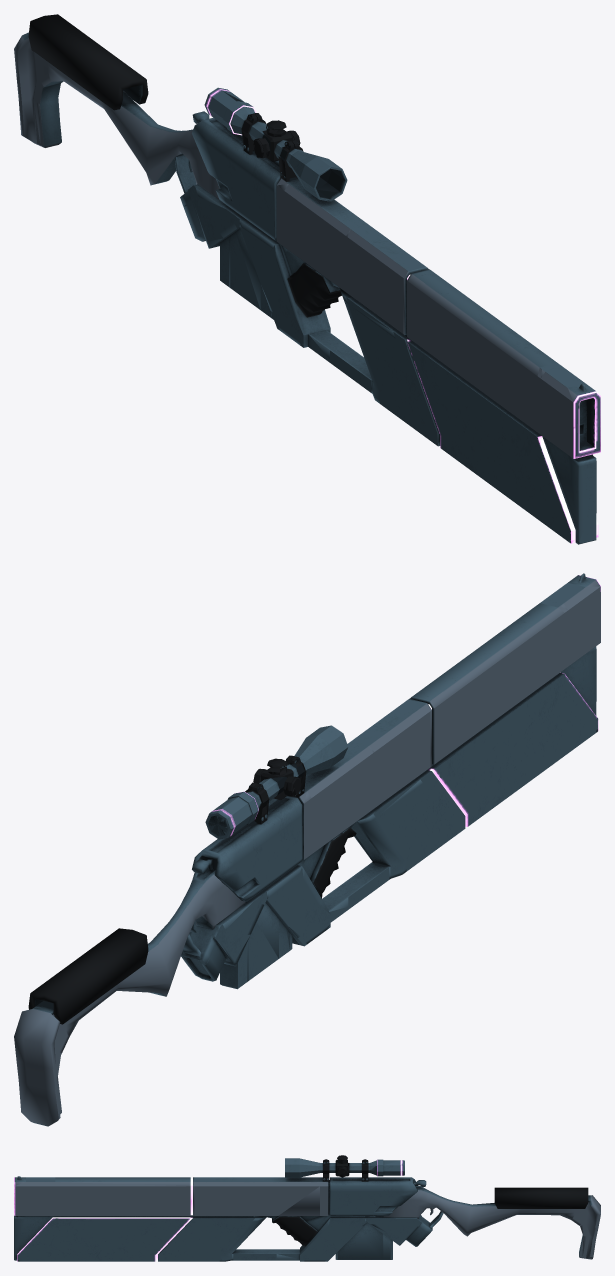
Rendered from sniper.glb.
The picture shows the model from 3 angles, top to bottom: view 1: azimuth 30°, elevation 25°; view 2: azimuth 150°, elevation 25°; view 3: azimuth 270°, elevation 25°; orthographic projection. The views are drawn at different scales.
Parts seen in each view (by area): view 1: Cube.009; view 2: Cube.009; view 3: Cube.009.
Boxes of the visible parts, x1,y1,x2,y2 form: Cube.009: (14, 14, 600, 544); Cube.009: (14, 573, 600, 1126); Cube.009: (14, 1155, 600, 1261).
Size of the model in its own units: 0.053 by 0.2496 by 1.32.
1 material, 1 textured.
